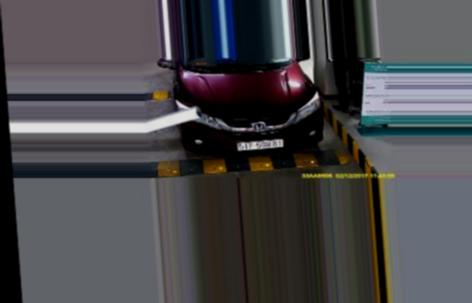License_Plate: (234, 137, 285, 152)
